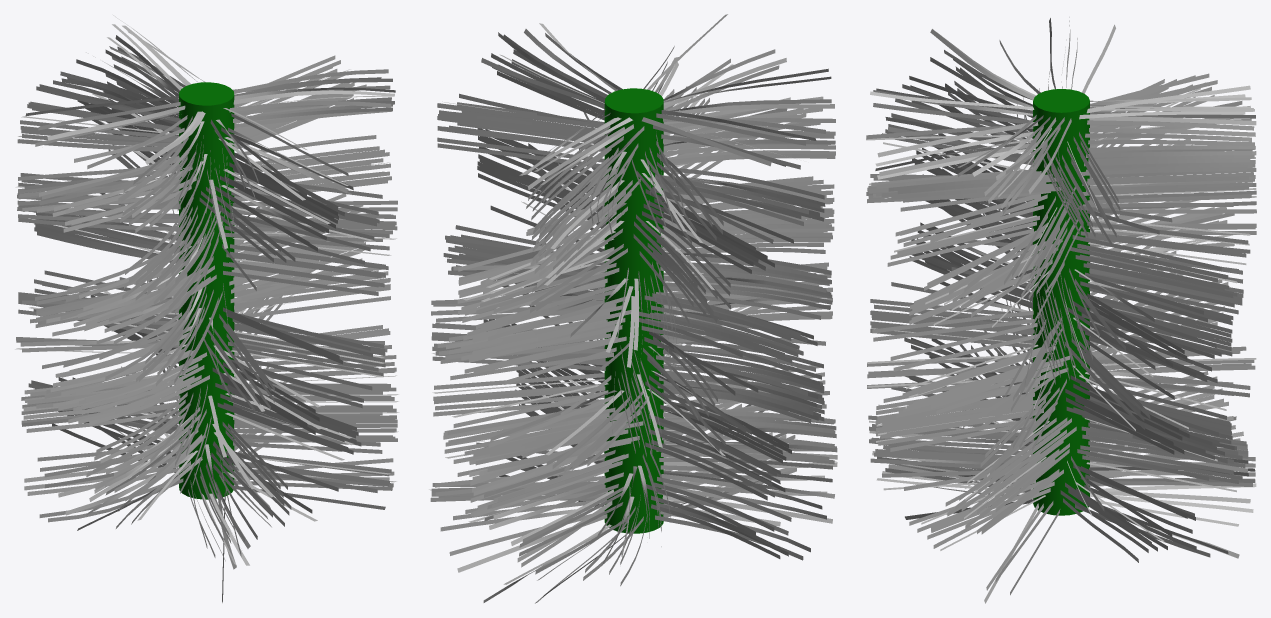
The model's file is Test_guirlande_2.0.fbx.
3 views of the same model, side by side, from view 1: azimuth 30°, elevation 25°; view 2: azimuth 150°, elevation 25°; view 3: azimuth 270°, elevation 25° (orthographic). The views are drawn at different scales.
Visible parts, largest first — view 1: polySurface781, pCylinder1; view 2: polySurface781, pCylinder1; view 3: polySurface781, pCylinder1.
Boxes of the visible parts, box(x1,y1,x2,y2) form: polySurface781: box(15, 15, 399, 602); pCylinder1: box(179, 82, 234, 499); polySurface781: box(429, 14, 837, 603); pCylinder1: box(604, 88, 663, 533); polySurface781: box(866, 17, 1256, 603); pCylinder1: box(1033, 89, 1089, 515).
Size of the model in its own units: 17.76 by 23.08 by 17.64.
